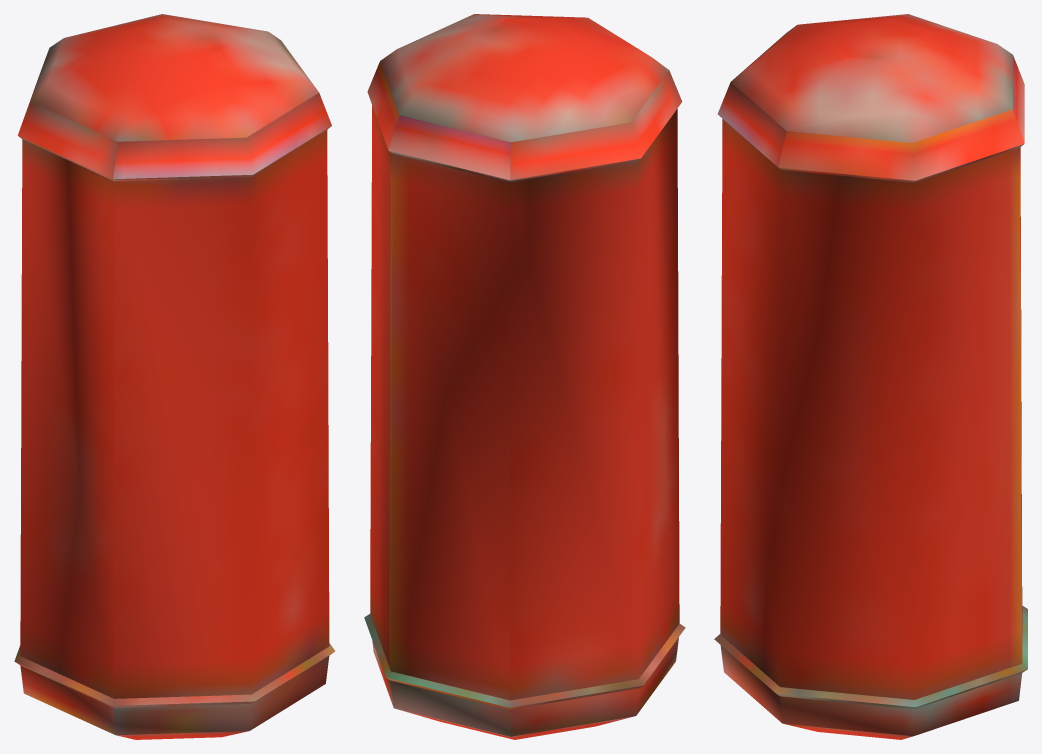
Rendered from junk_08-v3.glb.
3 renders of one model, left to right at view 1: azimuth 30°, elevation 25°; view 2: azimuth 150°, elevation 25°; view 3: azimuth 270°, elevation 25°, orthographic.
Parts seen in each view (by area): view 1: junk_08; view 2: junk_08; view 3: junk_08.
Part boxes in pixels (x1,y1,x2,y2): junk_08: (14, 14, 335, 739); junk_08: (364, 14, 685, 739); junk_08: (714, 14, 1027, 739).
Size of the model in its own units: 1.21 by 2.73 by 1.18.
Materials: 1 (1 with a texture image).
